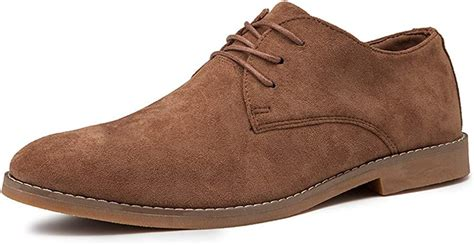gamuza: (6, 1, 464, 200)
